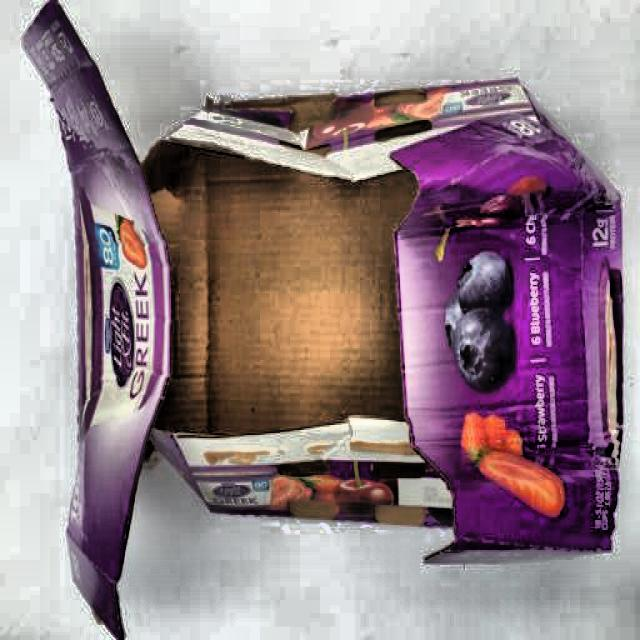cardboard: (57, 90, 614, 572)
